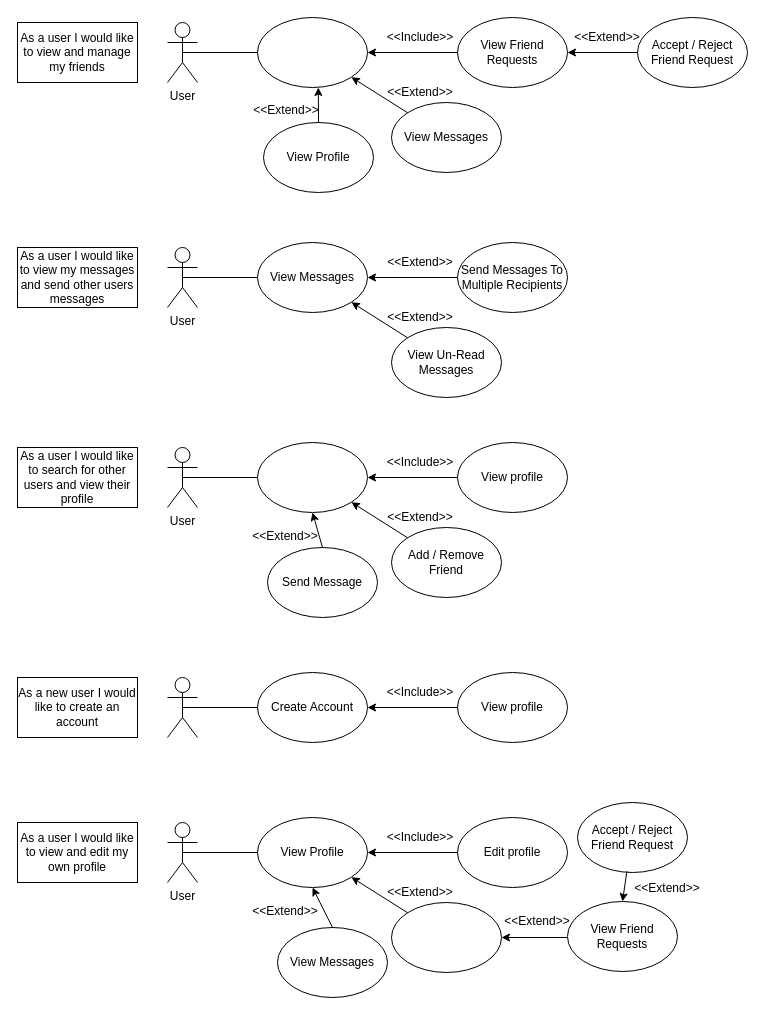
This 765x1015 diagram has some shape labels left out. The centre of each missing label's shape, as x and y in pixels:
"Manage friends" goes at point (446, 937).
"New User" goes at point (182, 707).
"Search Profiles" goes at point (312, 477).
"View Friends" goes at point (312, 52).
